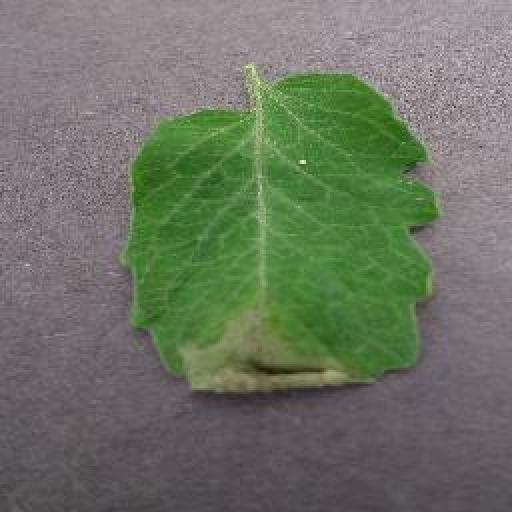Late Blight: (120, 73, 440, 400)
